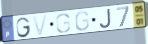7: (116, 5, 131, 28)
G: (15, 16, 33, 39), (55, 12, 72, 34), (74, 11, 90, 32)
J: (99, 8, 113, 29)
V: (31, 13, 50, 38)
